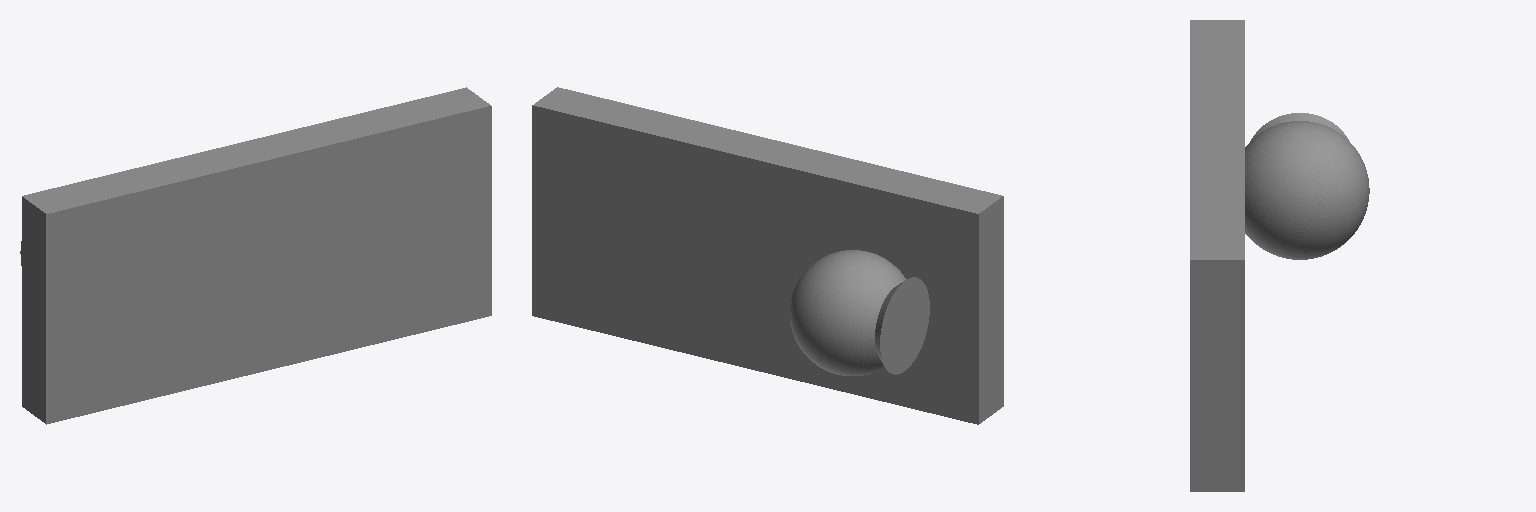
robot.urdf — jig:
<robot name="jig">

  <material name="gray">
    <color rgba="0.6 0.6 0.6 1.0"/>
  </material>

  <link name="jig_link">
    <visual>
      <geometry>
        <mesh filename="hand_jig.stl" scale="0.001 0.001 0.001"/>
      </geometry>
      <material name="gray"/>
    </visual>
  </link>

</robot>

--- What the picture shows (computed from the rendered views, not written in the file) ---
The picture shows the robot from 3 angles, left to right: view 1: azimuth 30°, elevation 25°; view 2: azimuth 150°, elevation 25°; view 3: azimuth 270°, elevation 25°; orthographic projection.
Model jig with 1 links and 0 joints (none), rooted at jig_link, posed all joints at 0.
Visible links, largest first — view 1: jig_link; view 2: jig_link; view 3: jig_link.
Link boxes in pixels (bbox=[...]): jig_link: bbox=[20, 87, 491, 424]; jig_link: bbox=[532, 87, 1003, 424]; jig_link: bbox=[1190, 20, 1369, 491].
Size in the robot's own frame: 0.155 by 0.049 by 0.07 metres.
1 mesh visuals loaded from 1 distinct referenced files (1 binary STL).
